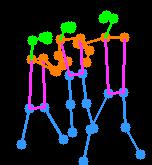normal: (10, 21, 71, 154)
